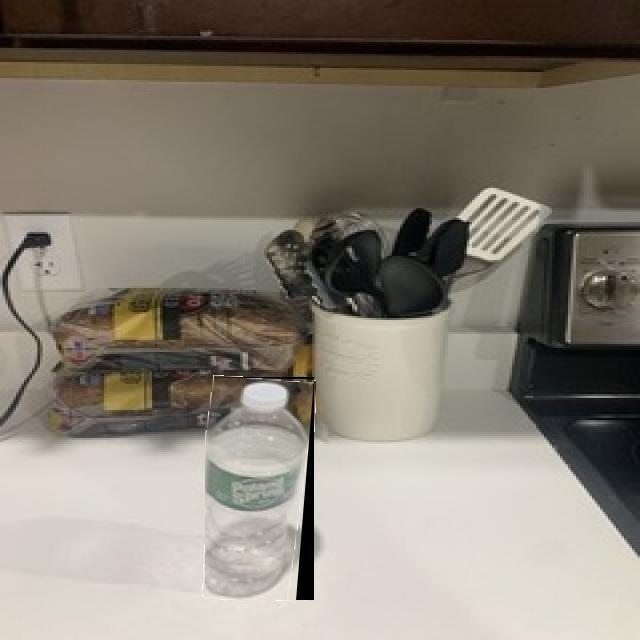water_bottle: (205, 377, 314, 600)
